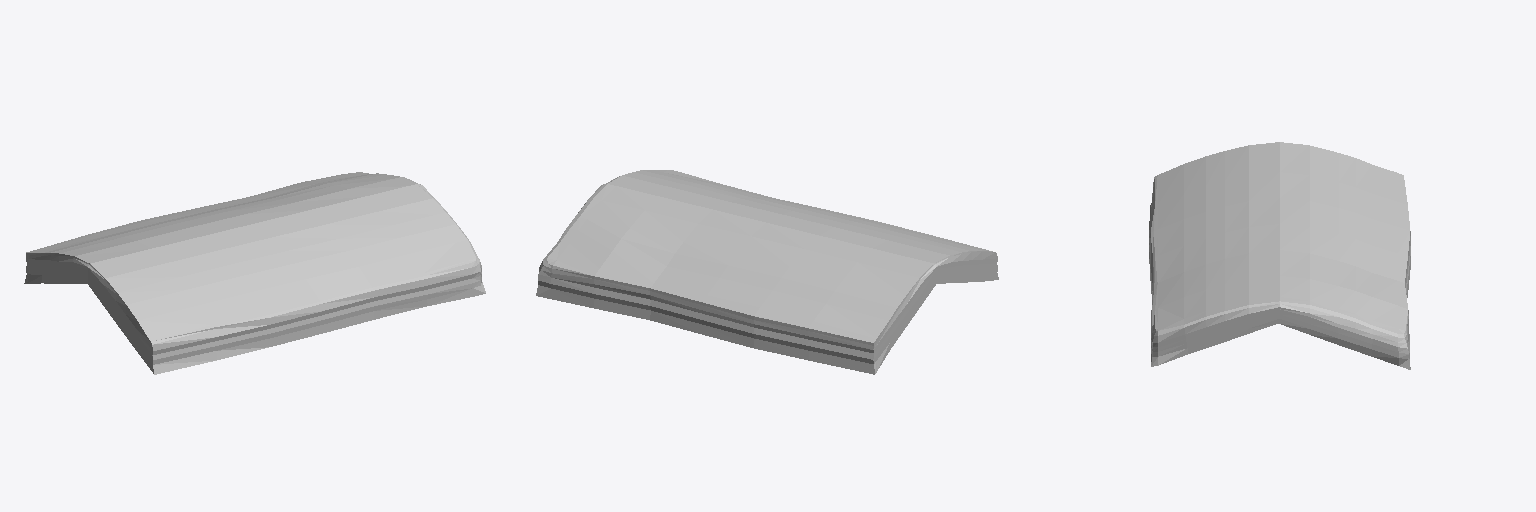
File: snow_debug.obj
3 renders of one model, left to right at view 1: azimuth 30°, elevation 25°; view 2: azimuth 150°, elevation 25°; view 3: azimuth 270°, elevation 25°, orthographic.
Visible parts, largest first — view 1: dachschnee; view 2: dachschnee; view 3: dachschnee.
Boxes of the visible parts, box(x1,y1,x2,y2) form: dachschnee: box(24, 172, 485, 374); dachschnee: box(536, 170, 998, 374); dachschnee: box(1149, 142, 1410, 369).
Bounding box in the file's own units: 6.13 × 1.14 × 4.11.